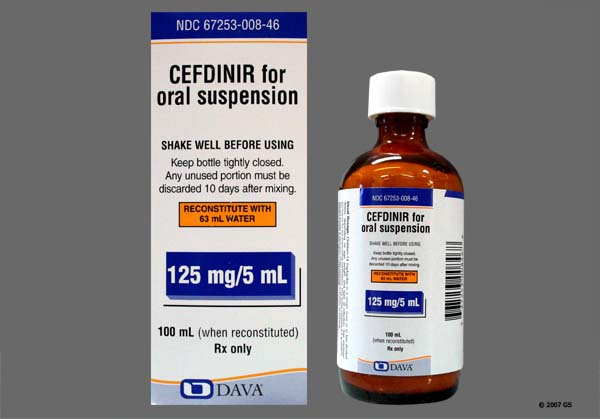Medicine: (142, 7, 317, 412), (329, 67, 472, 411)
